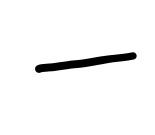minus: (37, 51, 137, 72)
